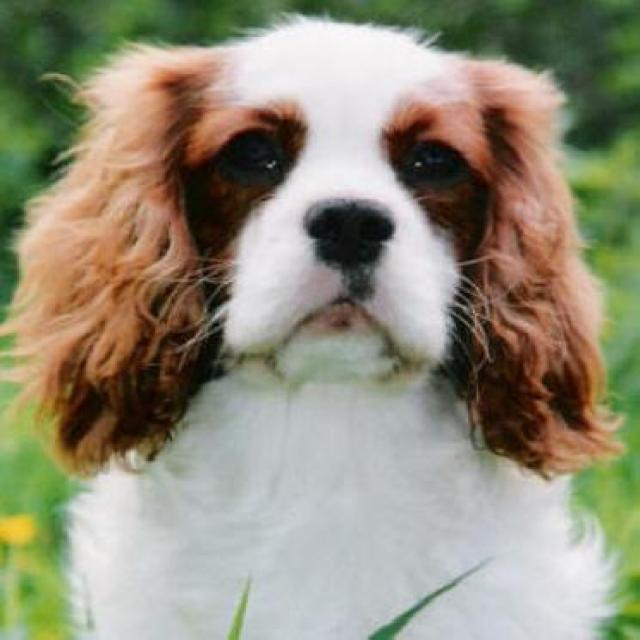blenheim_spaniel: (5, 20, 628, 637)
